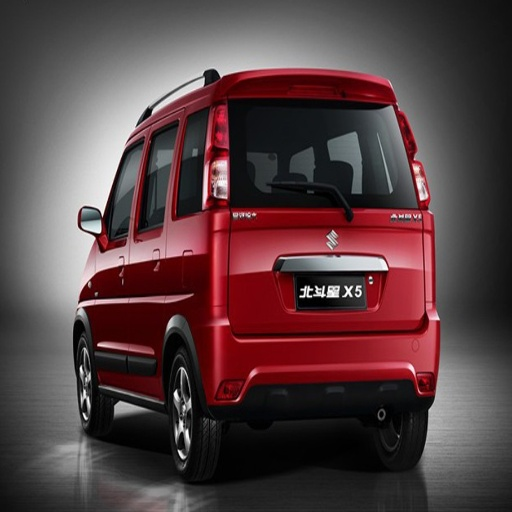back_bumper: (208, 305, 439, 404)
back_left_light: (203, 150, 231, 212)
trunk: (113, 184, 422, 369)
